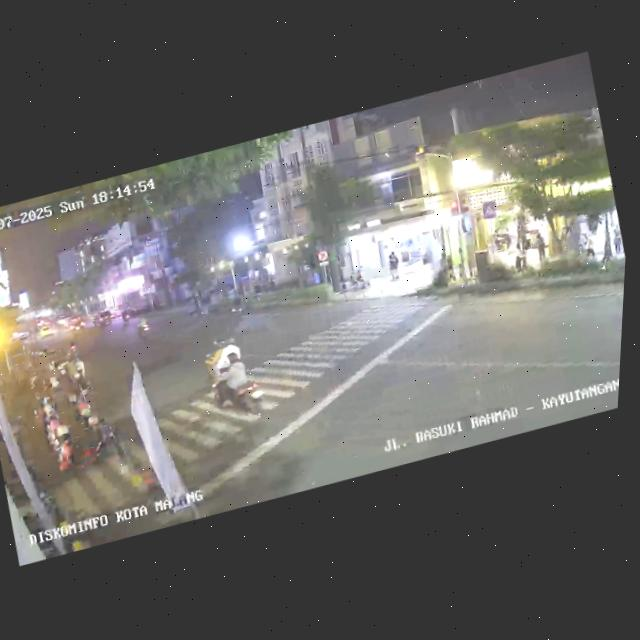car: (89, 307, 114, 330), (65, 320, 87, 338), (62, 314, 83, 328), (38, 323, 56, 338), (55, 314, 69, 325)
motorcycle: (202, 344, 272, 427), (197, 335, 247, 389), (132, 312, 155, 342), (68, 337, 80, 356), (120, 308, 133, 325)
person: (532, 232, 551, 264), (386, 250, 404, 282), (608, 222, 625, 255), (509, 239, 527, 270), (73, 356, 89, 385), (385, 253, 400, 282), (63, 358, 79, 385)
